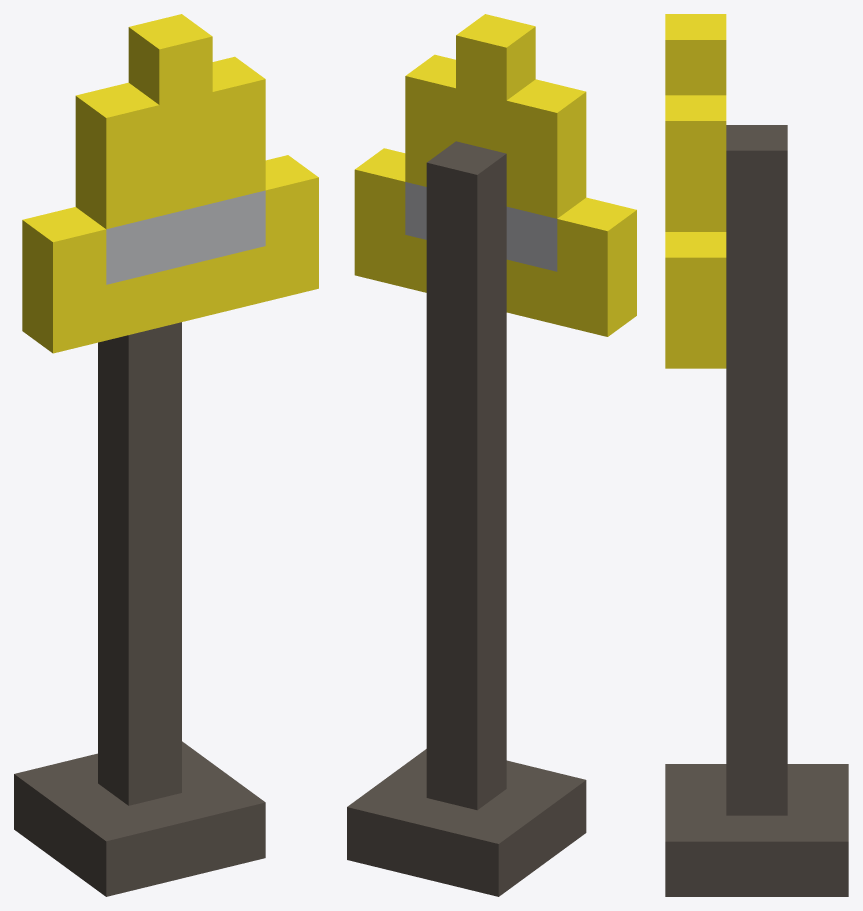
The model's file is traffic_sign_b_c.obj.
3 views of the same model, side by side, from view 1: azimuth 30°, elevation 25°; view 2: azimuth 150°, elevation 25°; view 3: azimuth 270°, elevation 25° (orthographic). The views are drawn at different scales.
Bounding box in the file's own units: 0.5 × 1.5 × 0.3.
Materials: 1 (1 with a texture image).
